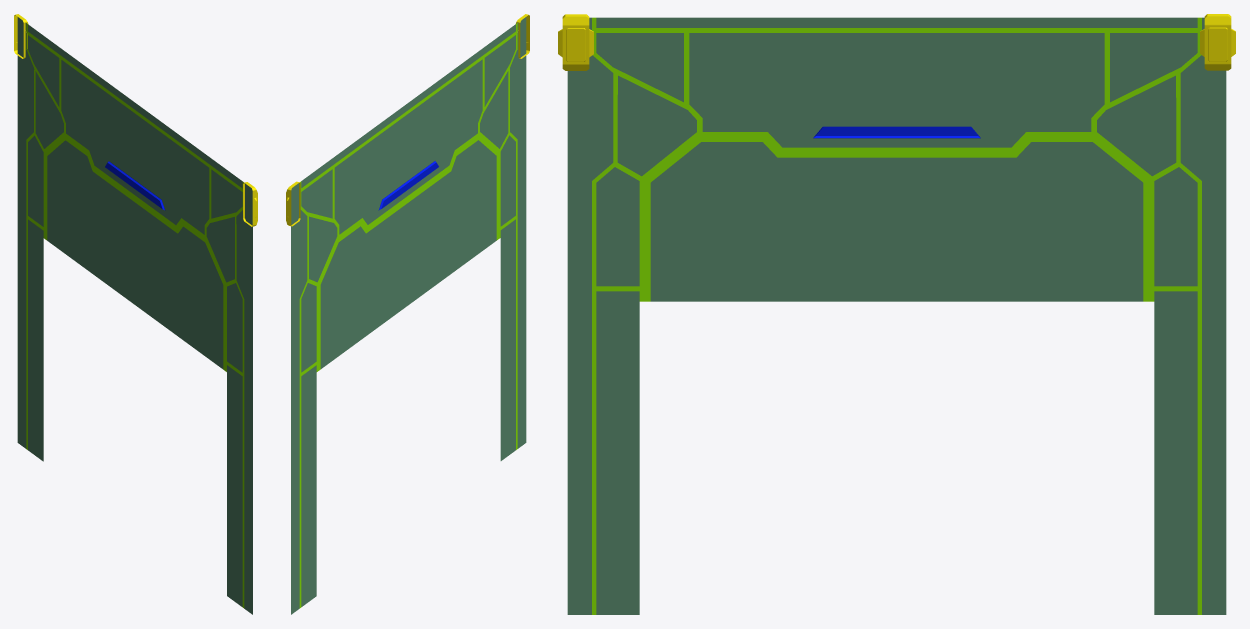
The model's file is Building_Wall_02k_Cut_Out_snaps016.FBX.
3 views of the same model, side by side, from view 1: azimuth 30°, elevation 25°; view 2: azimuth 150°, elevation 25°; view 3: azimuth 270°, elevation 25° (orthographic). The views are drawn at different scales.
Parts seen in each view (by area): view 1: Building_Wall_02k_Cut_Out_snaps016_LOD0; view 2: Building_Wall_02k_Cut_Out_snaps016_LOD0; view 3: Building_Wall_02k_Cut_Out_snaps016_LOD0.
Part boxes in pixels (bbox=[...]): Building_Wall_02k_Cut_Out_snaps016_LOD0: bbox=[14, 14, 257, 614]; Building_Wall_02k_Cut_Out_snaps016_LOD0: bbox=[286, 14, 529, 614]; Building_Wall_02k_Cut_Out_snaps016_LOD0: bbox=[558, 14, 1235, 614].
Size of what is drawn, in the model's own units: 0.0819 by 6.03 by 6.17.
